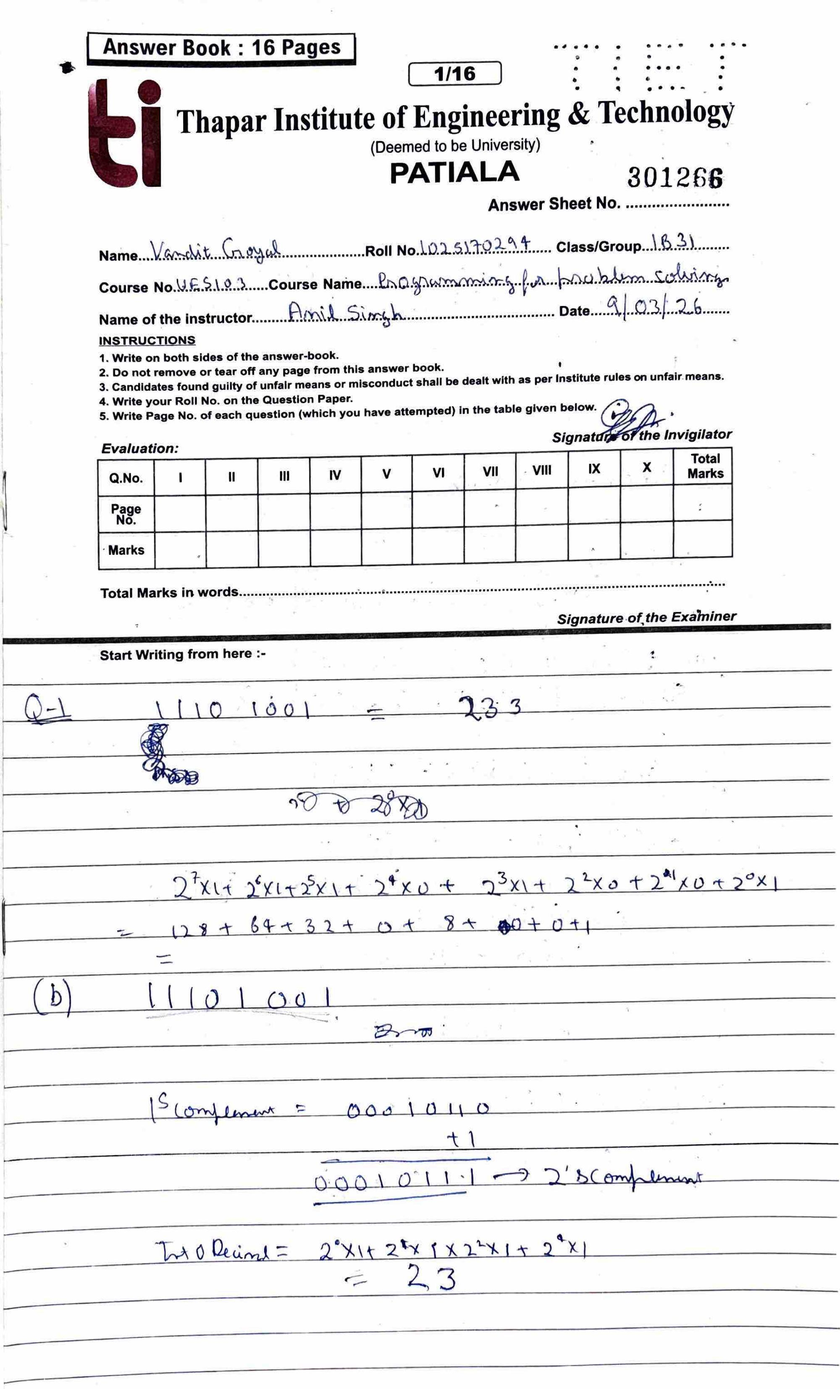cuttings: (288, 790, 429, 821), (138, 722, 201, 786), (371, 1018, 436, 1041), (497, 918, 512, 935), (662, 868, 672, 878)
